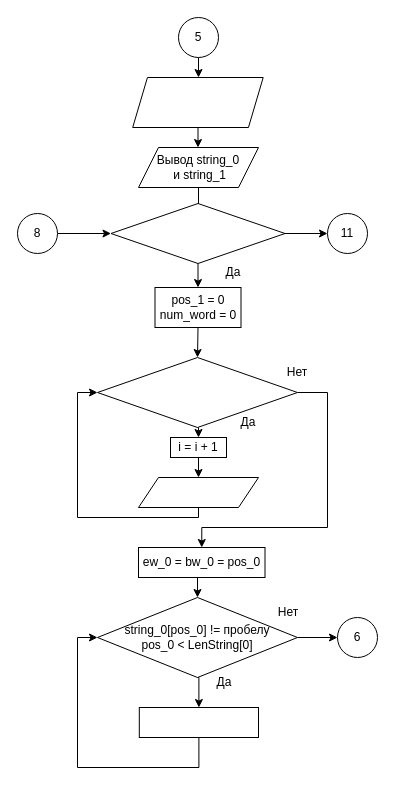
The diagram is 395 pixels wide and 793 high, and some of its shapes have lost their labels. The box of each missing label's shape, as (x1, y1, x2, y2) in pixels:
pos_0 < LenString[0]-2: (110, 202, 285, 264)
pos_0 = pos_0 + 1: (138, 706, 258, 738)
string_[pos_0] = пробелу и pos_0 < Lenstring[0]: (96, 356, 298, 428)
Вывод Flag i: (138, 476, 258, 508)
Считать из файла строку string_0 и строку string_1: (132, 76, 263, 128)
